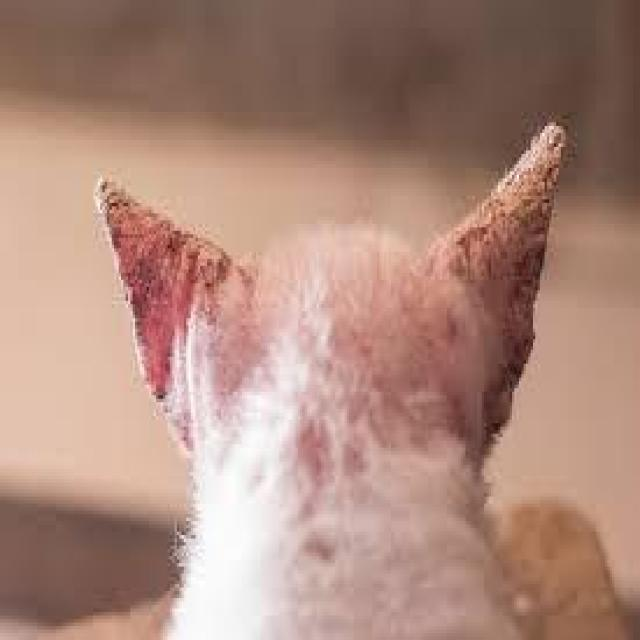ghe: (96, 178, 210, 370), (474, 117, 560, 290)
